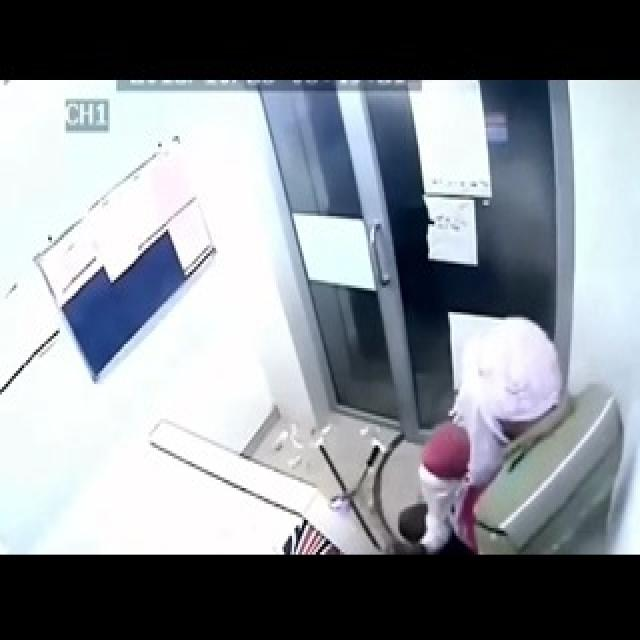thief: (386, 346, 585, 547)
